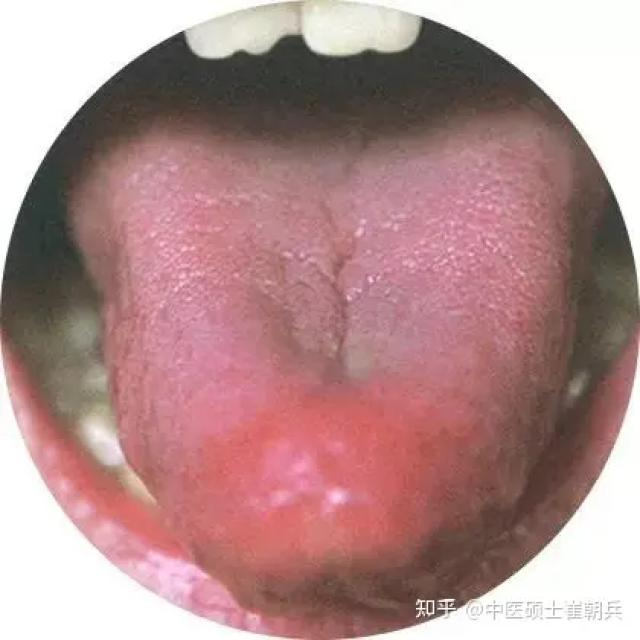tongue: (72, 101, 600, 571)
